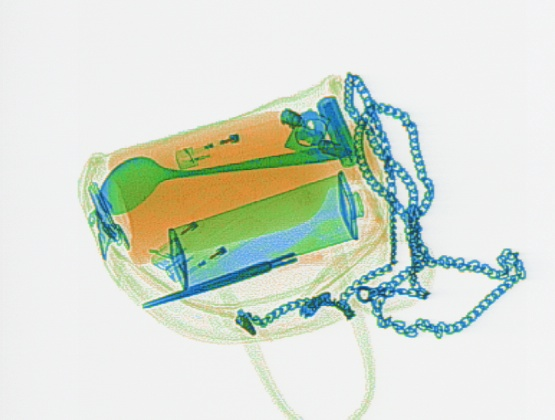lighter: (147, 184, 253, 271), (163, 213, 268, 282), (174, 117, 294, 170)
scissors: (140, 213, 377, 309)
zippooil: (166, 169, 364, 292)
